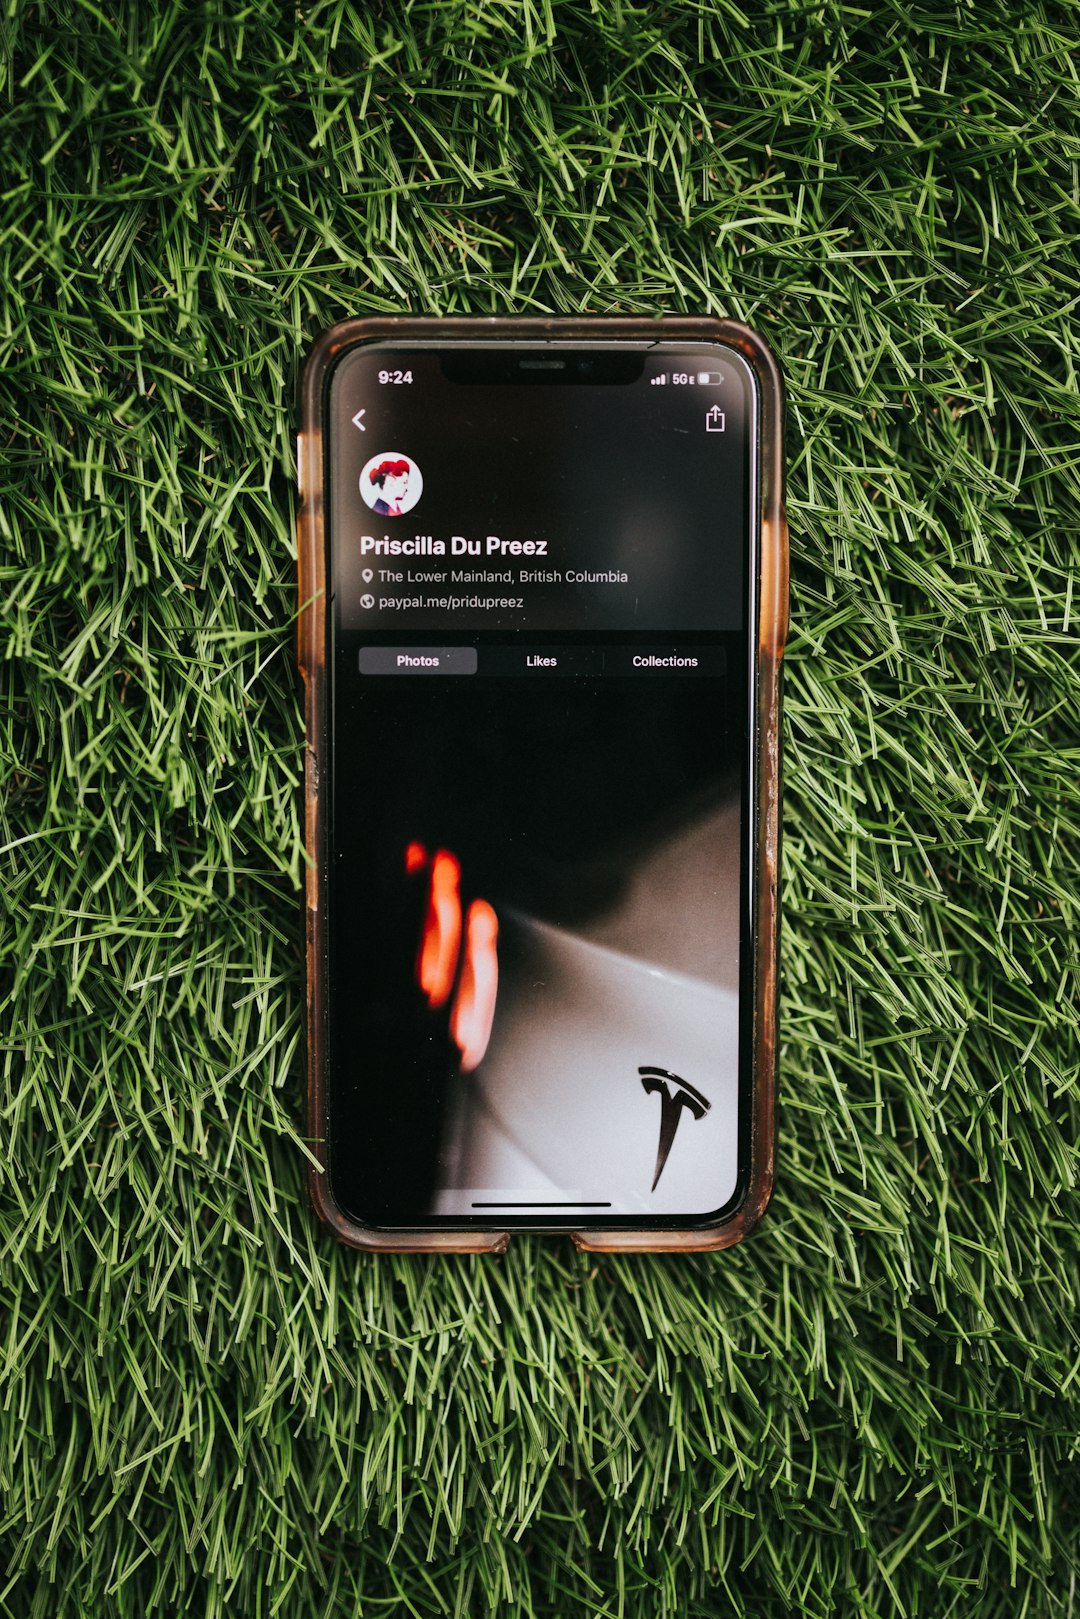phone: (294, 319, 786, 1267)
